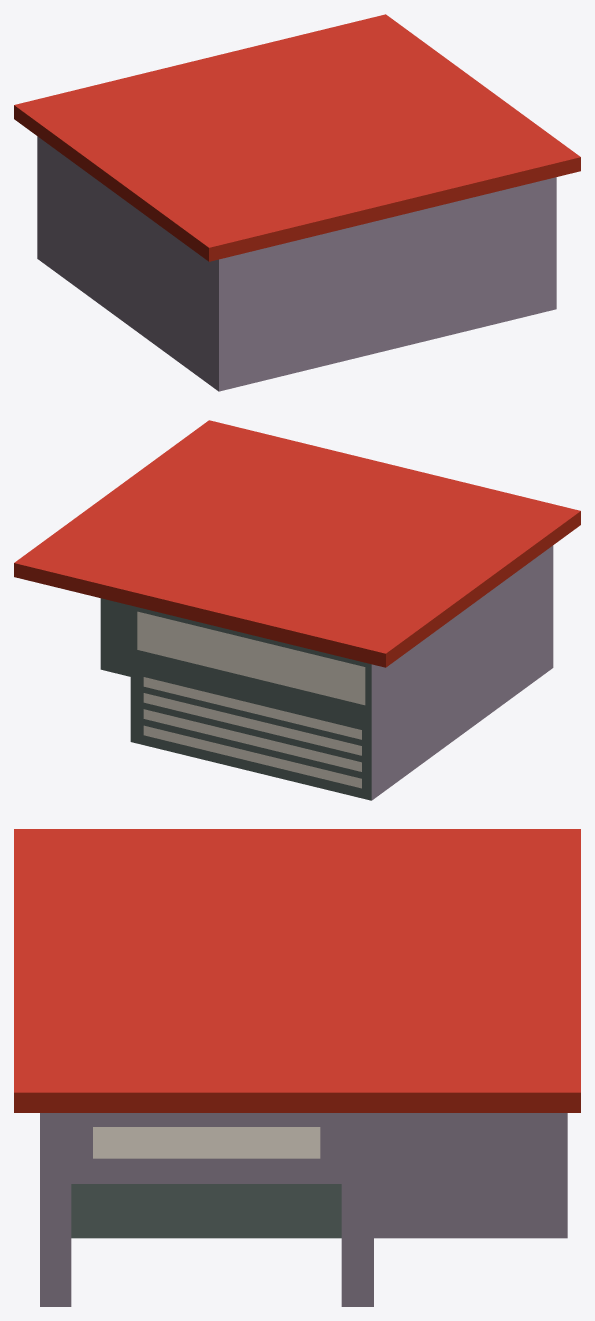
File: Garage.fbx
The picture shows the model from 3 angles, top to bottom: view 1: azimuth 30°, elevation 25°; view 2: azimuth 150°, elevation 25°; view 3: azimuth 270°, elevation 25°; orthographic projection. The views are drawn at different scales.
Parts seen in each view (by area): view 1: Garage; view 2: Garage; view 3: Garage.
Boxes of the visible parts, left/top/right/bottom form: Garage: left=14, top=14, right=580, bottom=391; Garage: left=14, top=420, right=580, bottom=800; Garage: left=14, top=829, right=580, bottom=1306.
Bounding box in the file's own units: 192 × 76.43 × 174.
